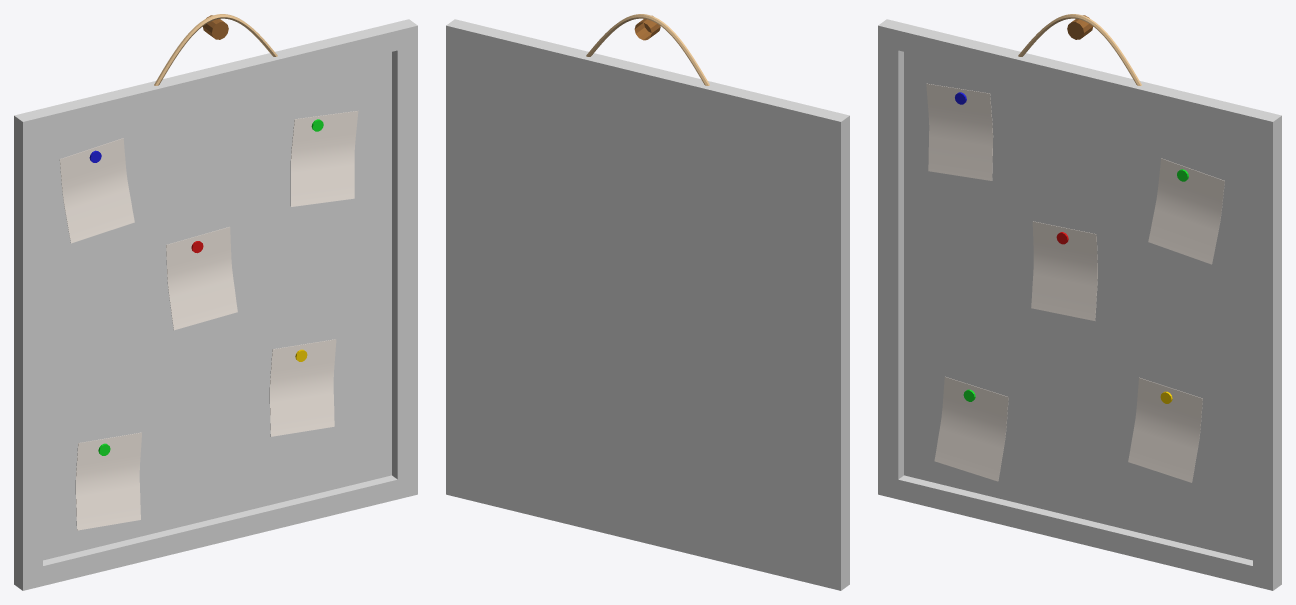
File: papan tusuk.fbx
The picture shows the model from 3 angles, left to right: view 1: azimuth 30°, elevation 25°; view 2: azimuth 150°, elevation 25°; view 3: azimuth 330°, elevation 25°; orthographic projection.
Visible parts, largest first — view 1: Cube.012, Plane.018, Plane.019, Plane.020, Plane.021, Plane.022, NurbsPath; view 2: Cube.012, NurbsPath; view 3: Cube.012, Plane.020, Plane.022, Plane.021, Plane.019, Plane.018, NurbsPath.
Part boxes in pixels (box(x1,y1,x2,y2)): Cube.012: box(14, 19, 417, 590); Plane.018: box(59, 138, 134, 243); Plane.019: box(166, 227, 237, 330); Plane.020: box(290, 111, 358, 206); Plane.021: box(269, 339, 336, 436); Plane.022: box(75, 432, 141, 530); NurbsPath: box(154, 14, 277, 85); Cube.012: box(446, 19, 849, 590); NurbsPath: box(586, 14, 709, 85); Cube.012: box(878, 19, 1281, 590); Plane.020: box(1148, 158, 1224, 264); Plane.022: box(934, 376, 1008, 481); Plane.021: box(1128, 377, 1202, 482); Plane.019: box(1031, 221, 1097, 320); Plane.018: box(926, 83, 993, 180); NurbsPath: box(1018, 14, 1141, 85).
Bounding box in the file's own units: 110 × 139 × 4.47.
